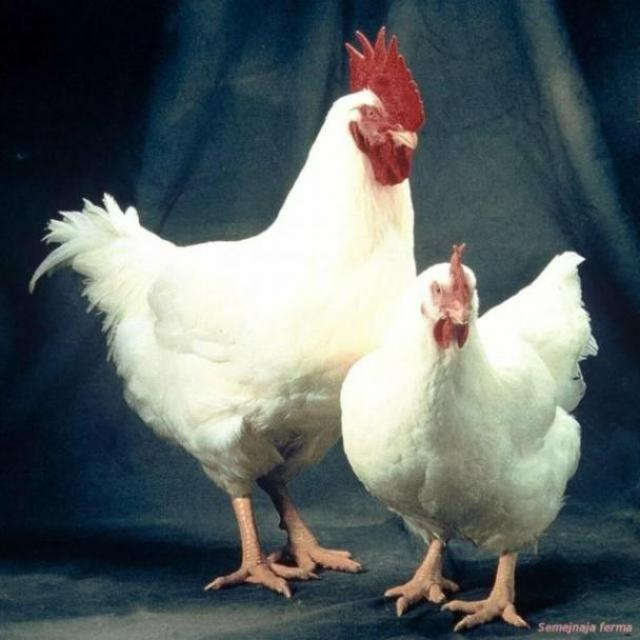Chicken: (43, 35, 425, 581), (347, 246, 605, 622)
